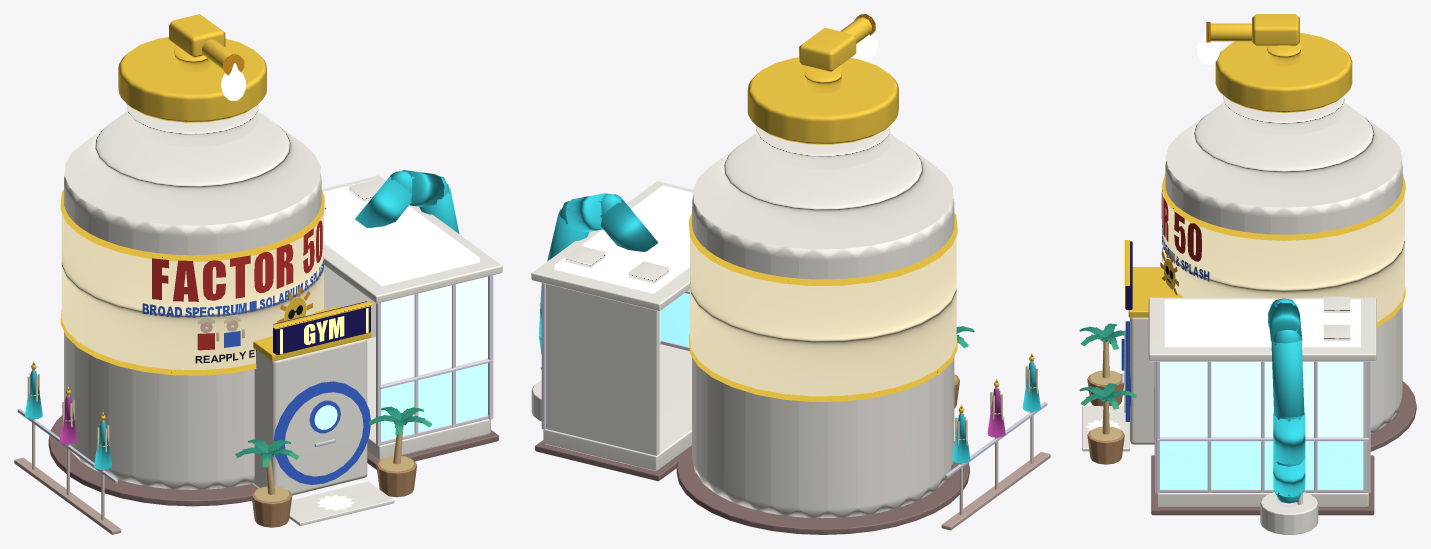
Rendered from factor_gym.glb.
3 renders of one model, left to right at view 1: azimuth 30°, elevation 25°; view 2: azimuth 150°, elevation 25°; view 3: azimuth 270°, elevation 25°, orthographic. The views are drawn at different scales.
Visible parts, largest first — view 1: Bottle, Solarium, Vestibule, Dressing, Label, GymNeon, Drip.001; view 2: Bottle, Solarium, Dressing; view 3: Bottle, Solarium, Vestibule, Dressing, Label, Drip.001.
Part boxes in pixels (box(x1,y1,x2,y2)): Bottle: box(48, 14, 324, 506); Solarium: box(321, 170, 502, 469); Vestibule: box(252, 301, 394, 526); Dressing: box(14, 361, 431, 534); Label: box(142, 220, 323, 363); GymNeon: box(280, 308, 368, 353); Drip.001: box(221, 63, 245, 100); Bottle: box(676, 14, 969, 534); Solarium: box(531, 181, 692, 481); Dressing: box(941, 326, 1050, 530); Bottle: box(1162, 14, 1416, 451); Solarium: box(1148, 296, 1376, 534); Vestibule: box(1082, 240, 1184, 451); Dressing: box(1079, 323, 1136, 464); Label: box(1160, 190, 1209, 295); Drip.001: box(1197, 30, 1219, 65).
Size of the model in its own units: 8.69 by 8.11 by 6.35.
